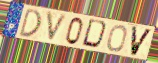0: (65, 17, 84, 46)
D: (81, 18, 110, 50), (17, 7, 42, 39)
O: (106, 24, 128, 53)
V: (45, 10, 69, 44), (130, 25, 154, 57)
